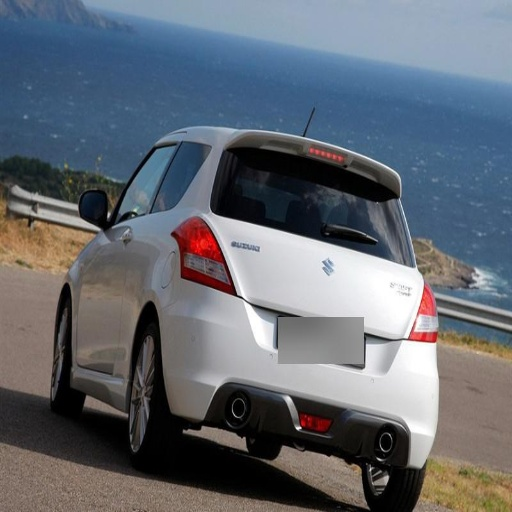back_bumper: (163, 280, 441, 467)
back_glass: (213, 152, 398, 260), (137, 143, 213, 202)
back_left_light: (173, 223, 236, 294)
back_right_door: (217, 143, 274, 194)
tailgate: (209, 215, 318, 319), (347, 277, 418, 371)
trunk: (256, 230, 419, 374)
